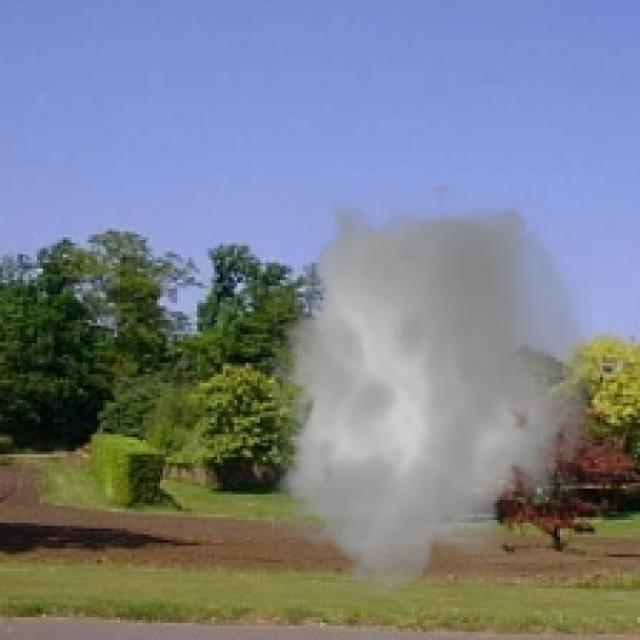smoke: (257, 186, 603, 608)
